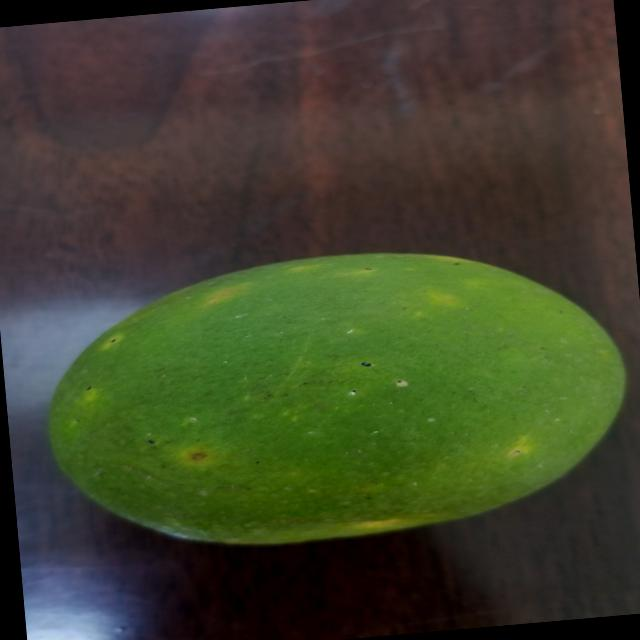Ripe orange: (31, 229, 622, 562)
